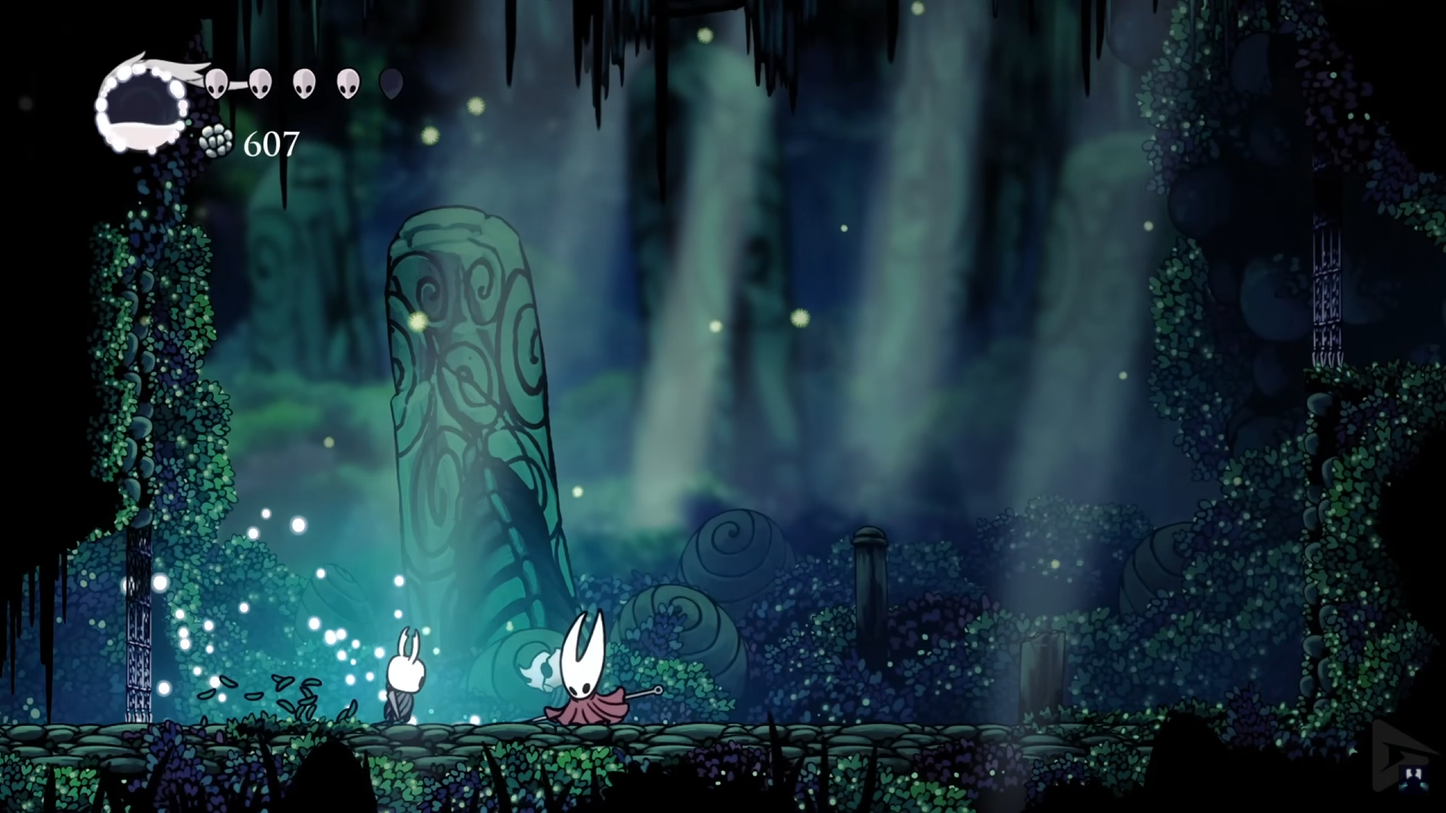HK: (372, 627, 435, 723)
